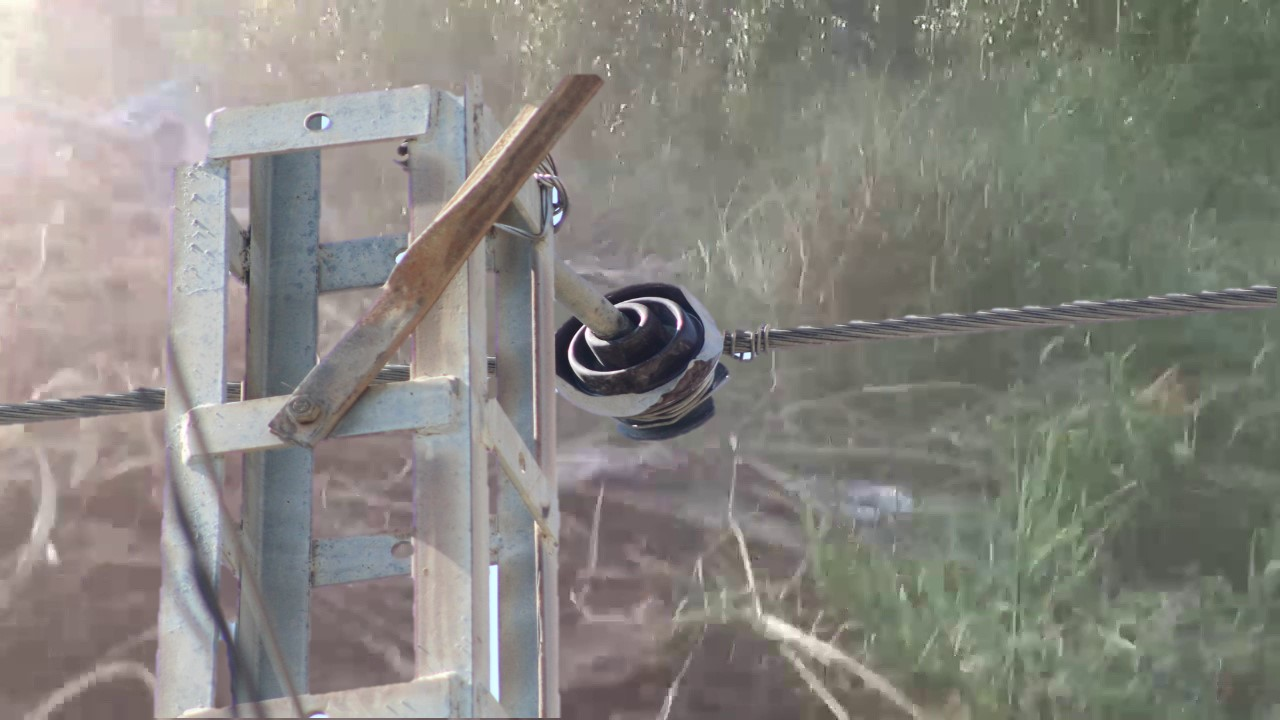defect_pin: (551, 278, 733, 453)
